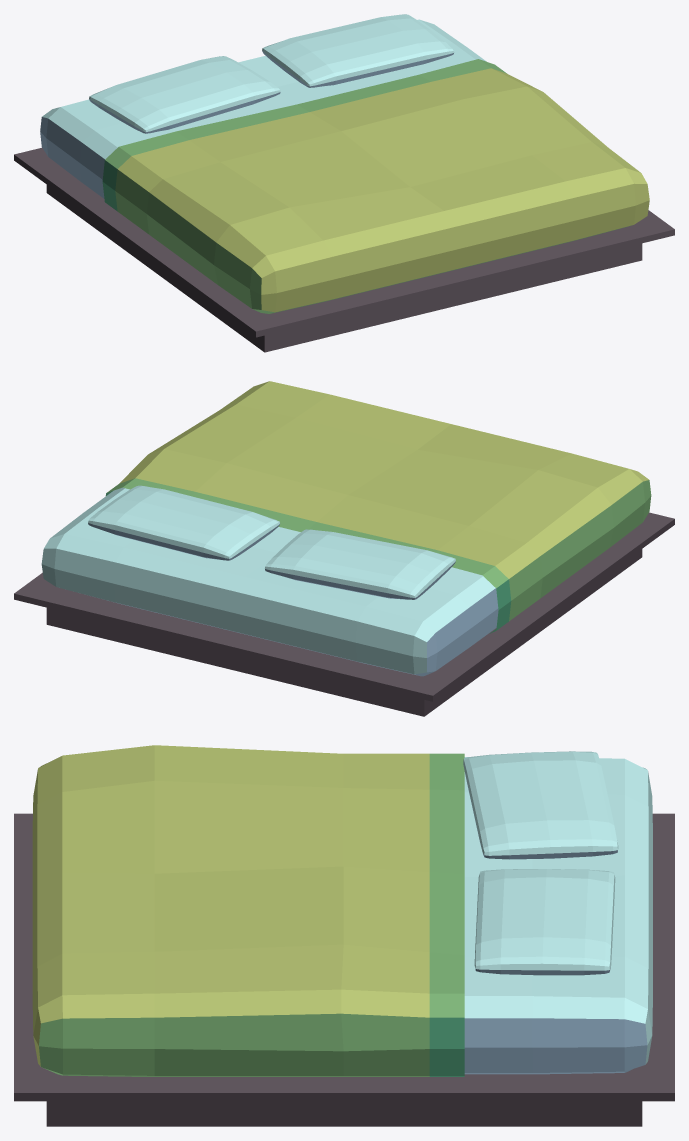
File: Bed Double.fbx
3 views of the same model, one above another, from view 1: azimuth 30°, elevation 25°; view 2: azimuth 150°, elevation 25°; view 3: azimuth 270°, elevation 25° (orthographic). The views are drawn at different scales.
Visible parts, largest first — view 1: Bed Double; view 2: Bed Double; view 3: Bed Double.
Part boxes in pixels (x1,y1,x2,y2): Bed Double: (14,14,674,352); Bed Double: (14,381,674,716); Bed Double: (14,745,674,1126).
Size of the model in its own units: 490 by 124 by 490.
